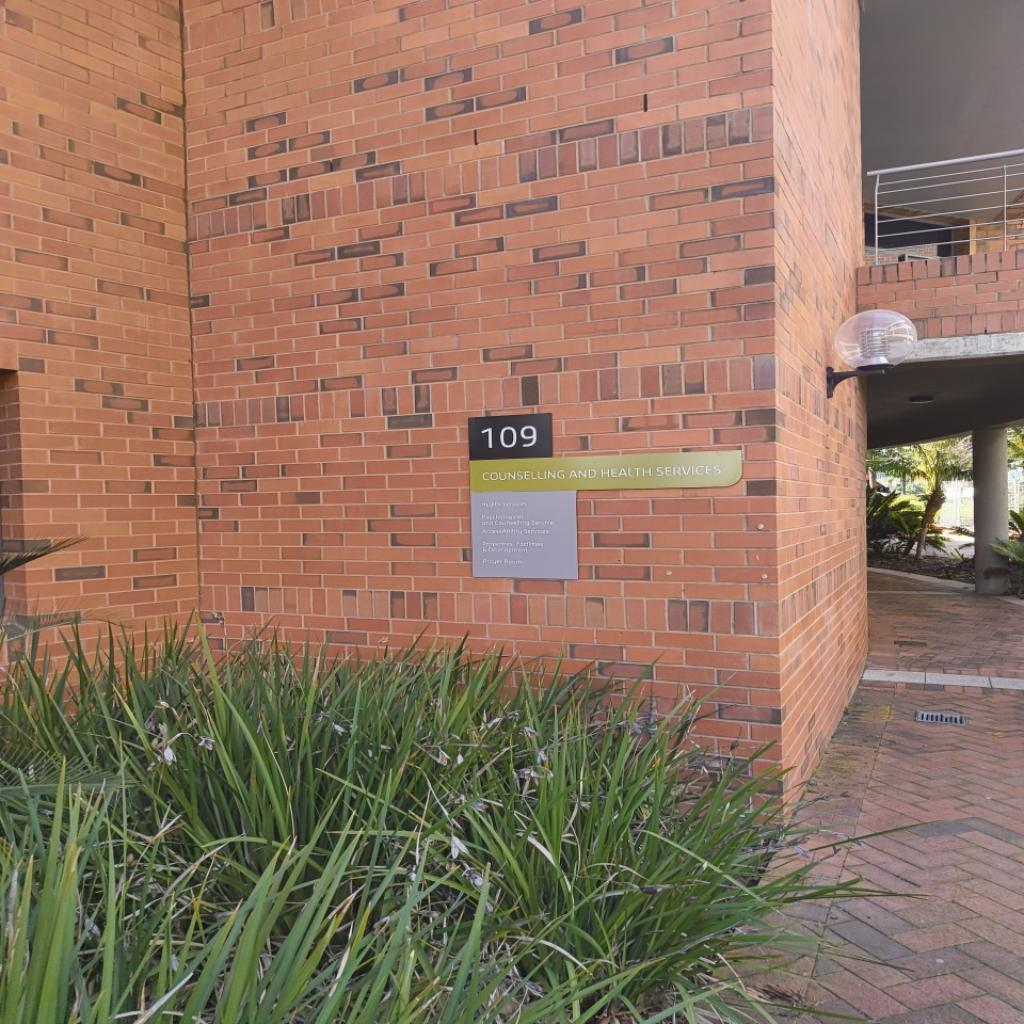BuildingCodes: (480, 423, 542, 451)
